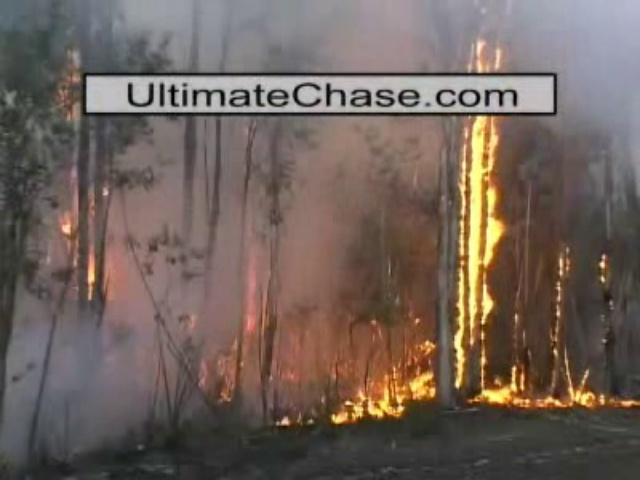fire: (453, 115, 501, 380), (480, 373, 598, 411), (337, 374, 431, 419)
